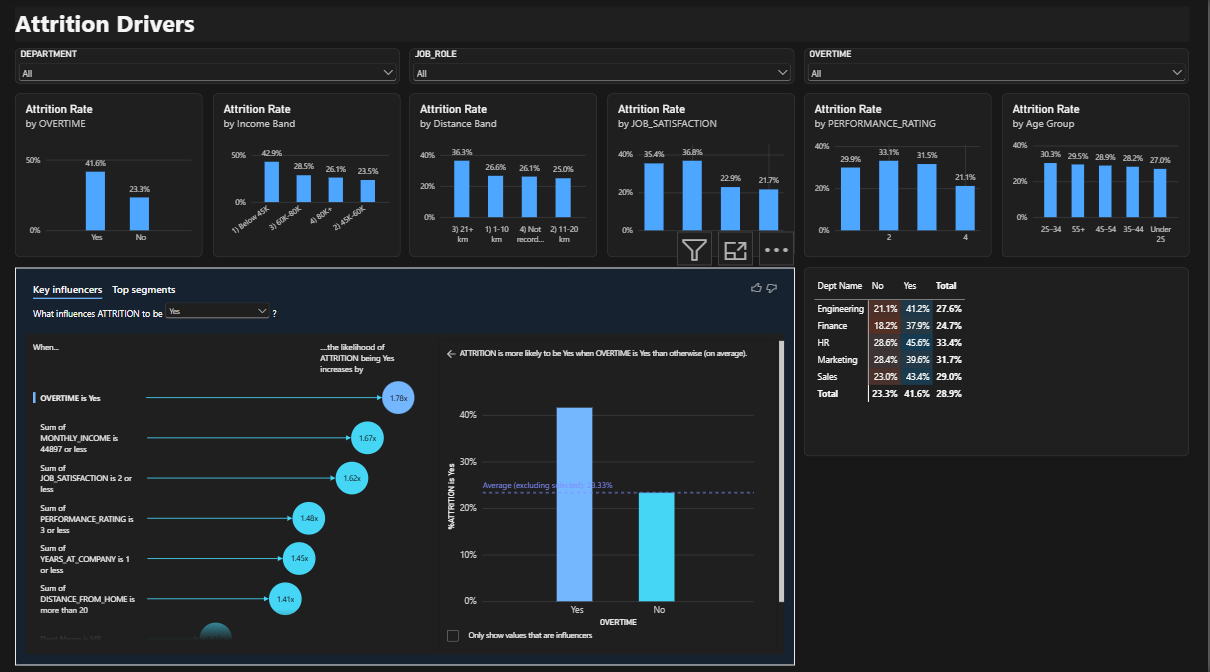

What the dashboard file says about the page in this screenshot:
{"tool":"powerbi","page":{"name":" Attrition Drivers ","canvas":[1920,1080],"ordinal":1},"visuals":[{"type":"clusteredColumnChart","fields":{"Category":["HR_ATTRITION_FINAL.OVERTIME"],"Y":["_Measures.Attrition Rate"]},"box":[24,156,298,260],"z":0},{"type":"clusteredColumnChart","fields":{"Category":["HR_ATTRITION_FINAL.Income Band"],"Y":["_Measures.Attrition Rate"]},"box":[338,156,298,260],"z":1000},{"type":"clusteredColumnChart","fields":{"Category":["HR_ATTRITION_FINAL.Distance Band"],"Y":["_Measures.Attrition Rate"]},"box":[652,156,298,260],"z":2000},{"type":"clusteredColumnChart","fields":{"Category":["HR_ATTRITION_FINAL.JOB_SATISFACTION"],"Y":["_Measures.Attrition Rate"]},"box":[966,156,298,260],"z":3000},{"type":"clusteredColumnChart","fields":{"Category":["HR_ATTRITION_FINAL.PERFORMANCE_RATING"],"Y":["_Measures.Attrition Rate"]},"box":[1280,156,298,260],"z":4000},{"type":"clusteredColumnChart","fields":{"Y":["_Measures.Attrition Rate"],"Category":["HR_ATTRITION_FINAL.Age Group"]},"box":[1594,156,298,260],"z":5000},{"type":"pivotTable","fields":{"Rows":["HR_ATTRITION_FINAL.Dept Name"],"Columns":["HR_ATTRITION_FINAL.OVERTIME"],"Values":["_Measures.Attrition Rate"]},"box":[1280,432,612,300],"z":6000},{"type":"keyDriversVisual","fields":{"Target":["HR_ATTRITION_FINAL.ATTRITION"],"ExplainBy":["Sum(HR_ATTRITION_FINAL.AGE)","HR_ATTRITION_FINAL.Dept Name","Sum(HR_ATTRITION_FINAL.DISTANCE_FROM_HOME)","Sum(HR_ATTRITION_FINAL.PERFORMANCE_RATING)","Sum(HR_ATTRITION_FINAL.JOB_SATISFACTION)","Sum(HR_ATTRITION_FINAL.YEARS_AT_COMPANY)","Sum(HR_ATTRITION_FINAL.MONTHLY_INCOME)","HR_ATTRITION_FINAL.OVERTIME"]},"box":[24,432,1240,632],"z":7000},{"type":"slicer","fields":{"Values":["HR_ATTRITION_FINAL.DEPARTMENT"]},"box":[24,84,612,56],"z":8000},{"type":"slicer","fields":{"Values":["HR_ATTRITION_FINAL.JOB_ROLE"]},"box":[652,84,612,56],"z":9000},{"type":"slicer","fields":{"Values":["HR_ATTRITION_FINAL.OVERTIME"]},"box":[1280,84,612,56],"z":10000},{"type":"textbox","box":[24,16,1868,56],"z":11000}]}

Visuals, with their boxes in screenshot pixels (x1, y1, x2, y2), scaled from the page's 1920x1080 canvas onto the 1210x672 screenshot:
clusteredColumnChart - HR_ATTRITION_FINAL.OVERTIME x _Measures.Attrition Rate: 15/97/203/259
clusteredColumnChart - HR_ATTRITION_FINAL.Income Band x _Measures.Attrition Rate: 213/97/401/259
clusteredColumnChart - HR_ATTRITION_FINAL.Distance Band x _Measures.Attrition Rate: 411/97/599/259
clusteredColumnChart - HR_ATTRITION_FINAL.JOB_SATISFACTION x _Measures.Attrition Rate: 609/97/797/259
clusteredColumnChart - HR_ATTRITION_FINAL.PERFORMANCE_RATING x _Measures.Attrition Rate: 807/97/994/259
clusteredColumnChart - _Measures.Attrition Rate x HR_ATTRITION_FINAL.Age Group: 1005/97/1192/259
pivotTable - HR_ATTRITION_FINAL.Dept Name x HR_ATTRITION_FINAL.OVERTIME: 807/269/1192/455
keyDriversVisual - HR_ATTRITION_FINAL.ATTRITION x Sum(HR_ATTRITION_FINAL.AGE): 15/269/797/662
slicer - HR_ATTRITION_FINAL.DEPARTMENT: 15/52/401/87
slicer - HR_ATTRITION_FINAL.JOB_ROLE: 411/52/797/87
slicer - HR_ATTRITION_FINAL.OVERTIME: 807/52/1192/87
textbox: 15/10/1192/45
